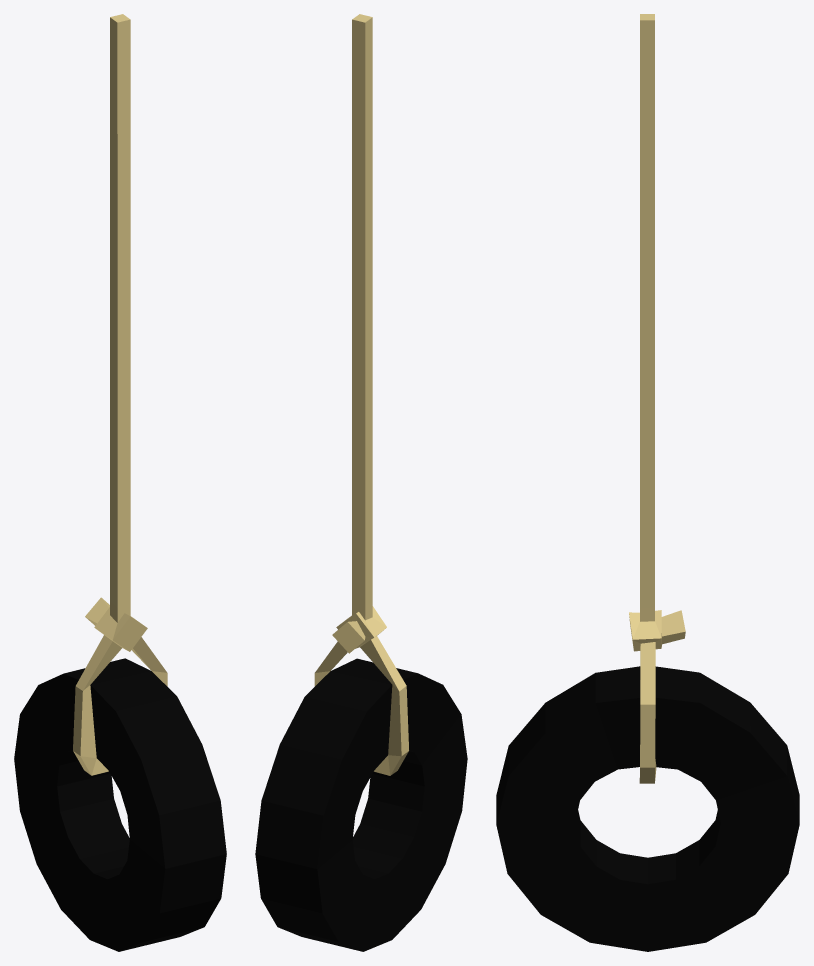
The model's file is Neumatico.fbx.
3 renders of one model, left to right at view 1: azimuth 30°, elevation 25°; view 2: azimuth 150°, elevation 25°; view 3: azimuth 270°, elevation 25°, orthographic.
Parts seen in each view (by area): view 1: neumatico:polySurface17; view 2: neumatico:polySurface17; view 3: neumatico:polySurface17.
Boxes of the visible parts, x1,y1,x2,y2 form: neumatico:polySurface17: (14,14,226,951); neumatico:polySurface17: (255,14,467,951); neumatico:polySurface17: (496,14,799,951).
Bounding box in the file's own units: 523 × 5226 × 1562.
